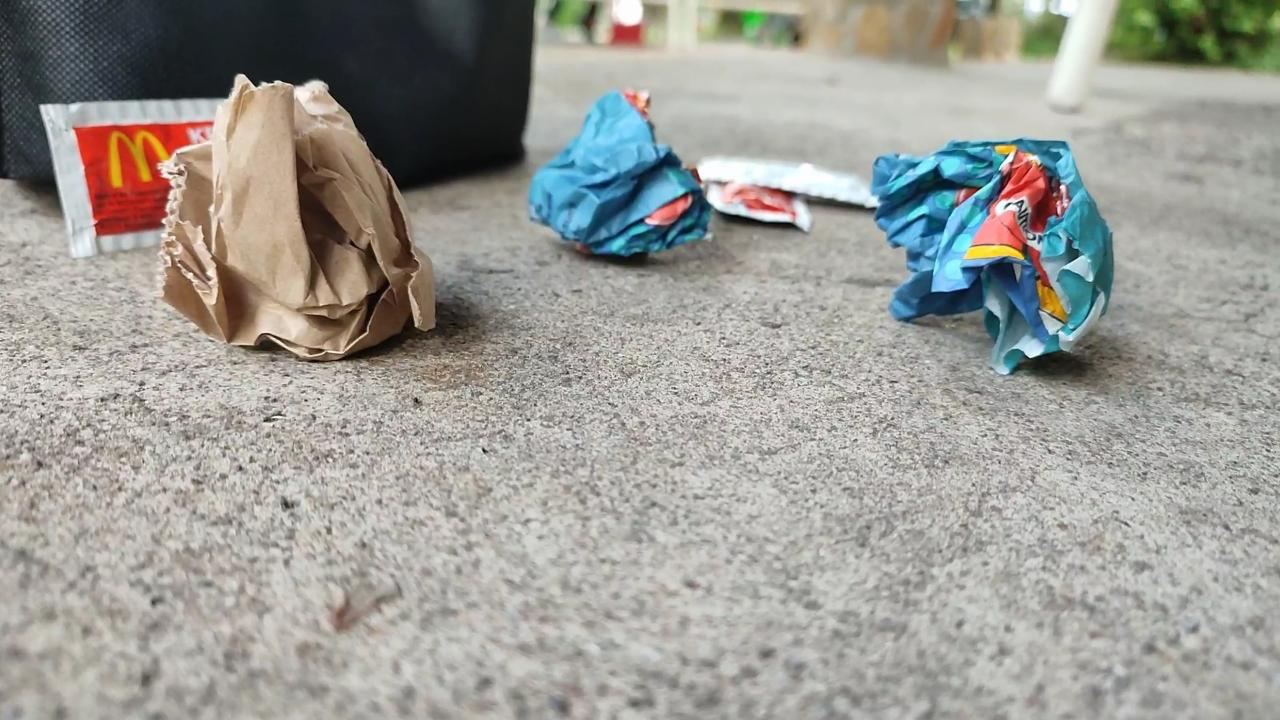paper: (152, 57, 446, 343), (851, 134, 1115, 386), (519, 72, 724, 276)
